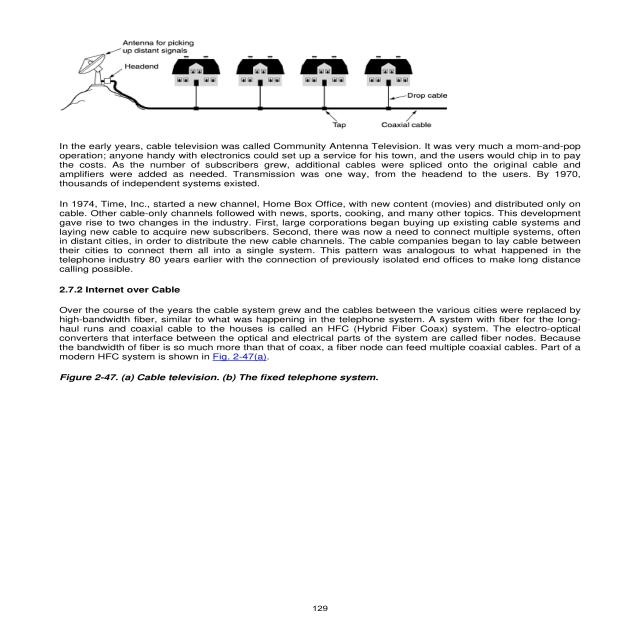diagram: (55, 20, 544, 140)
